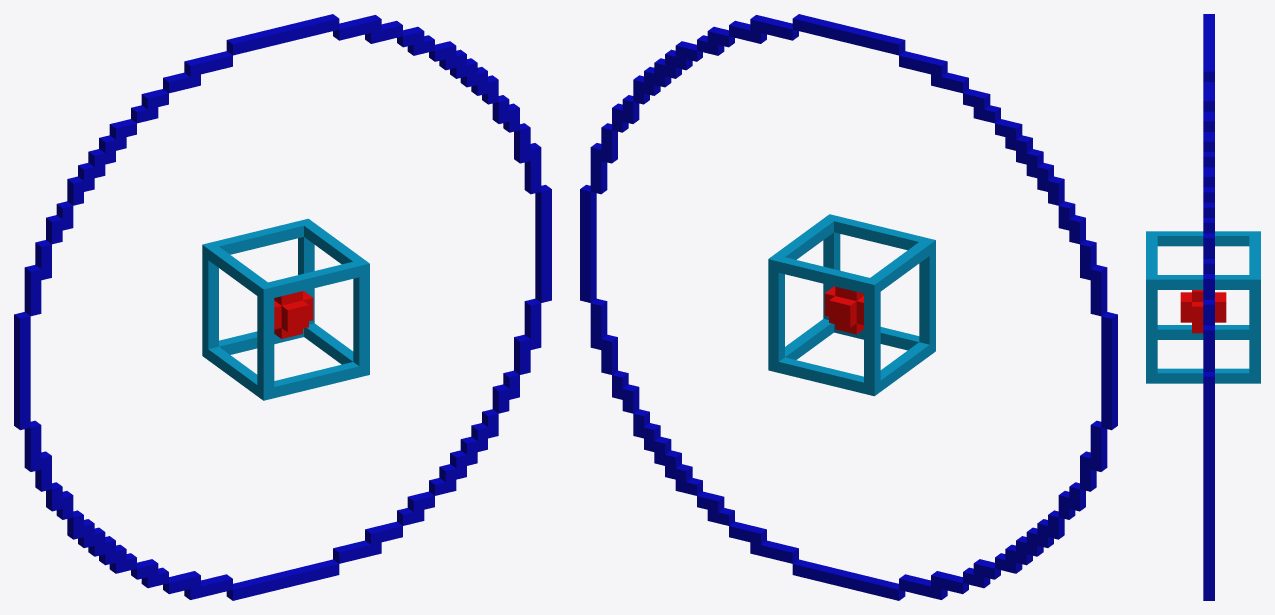
The model's file is water_checkpoint.obj.
The picture shows the model from 3 angles, left to right: view 1: azimuth 30°, elevation 25°; view 2: azimuth 150°, elevation 25°; view 3: azimuth 270°, elevation 25°; orthographic projection. The views are drawn at different scales.
Size of the model in its own units: 5 by 5 by 1.
1 material, 1 textured.
